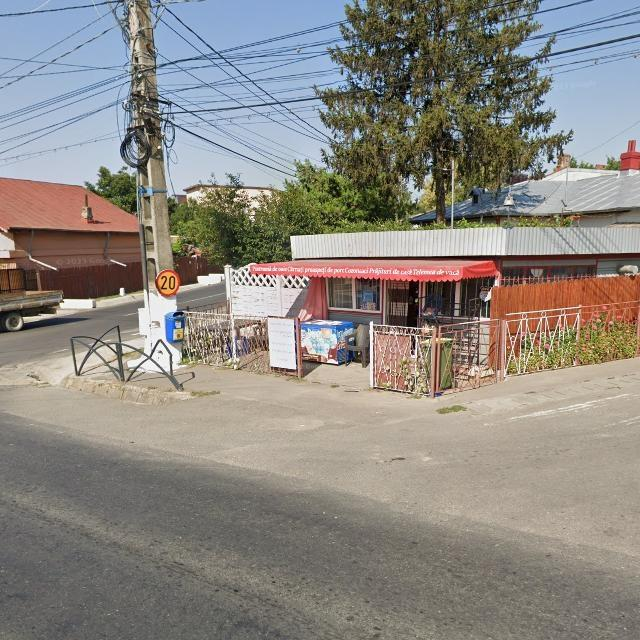forb_speed_over_20: (155, 269, 181, 297)
